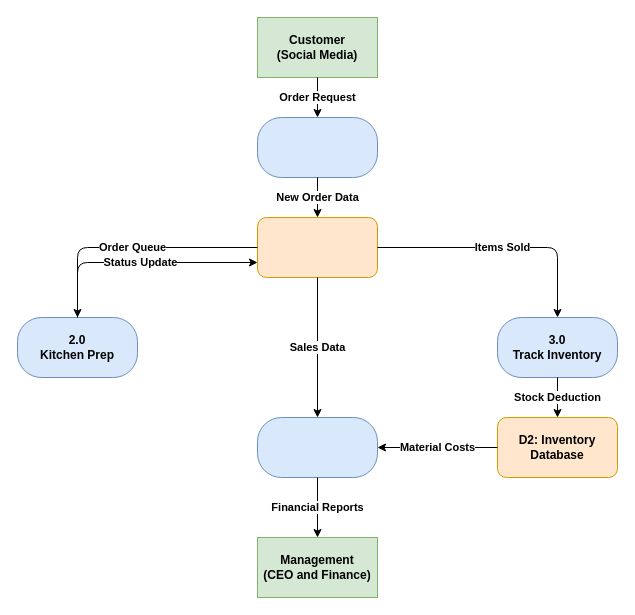
This 635x615 diagram has some shape labels left out. The shapes that lost their labels are listed below. From the top down, each one's box as (x1, y1, x2, y2) in pixels, then its label:
(256, 116, 378, 178): 1.0 Manage Orders
(256, 216, 378, 278): D1: Order Database
(256, 416, 378, 478): 4.0 Generate Reports
